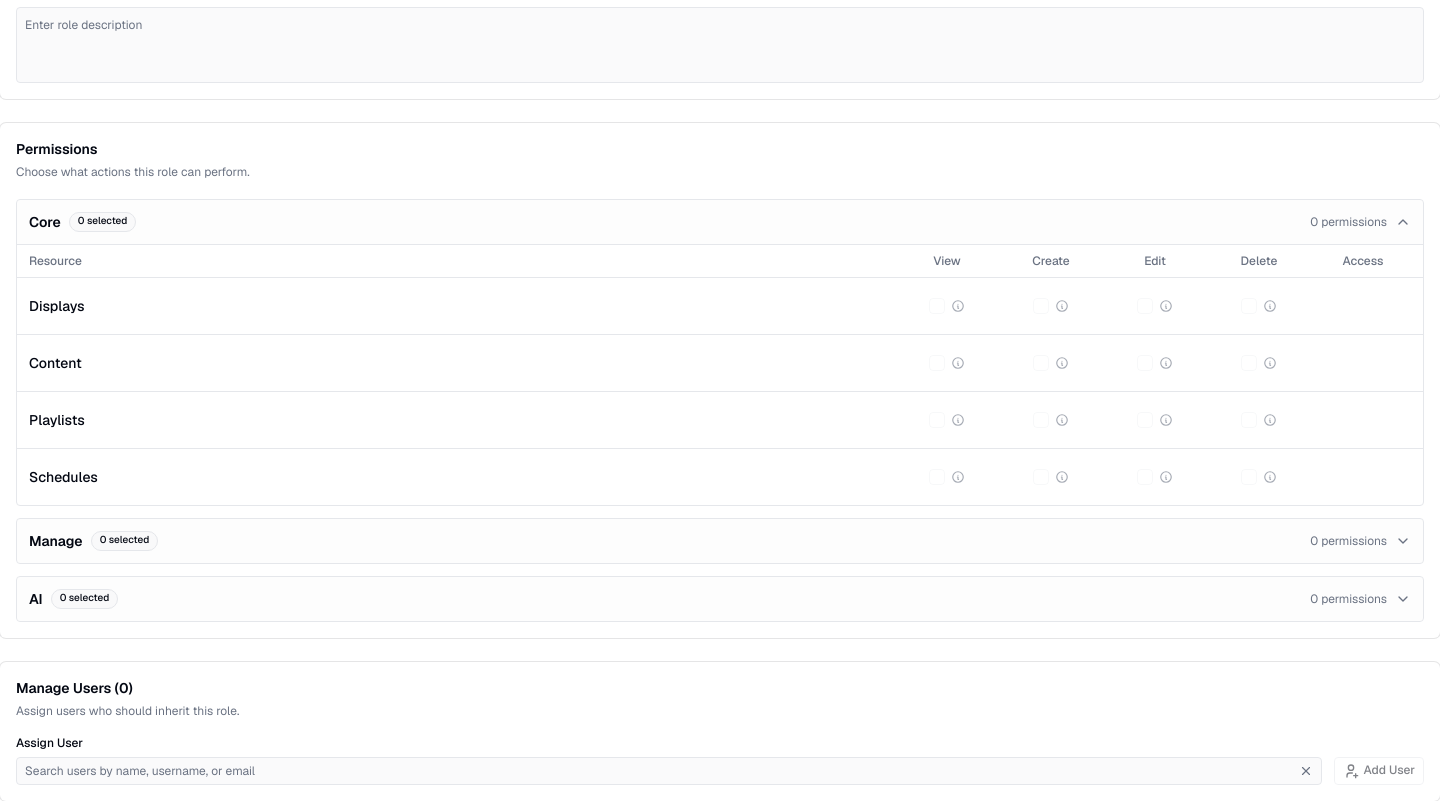
RoleForm › selects and adds a user from the assignment combobox
(page scrolled)
Expected: the button "Add User" is disabled, [1334,757,1424,785]
In the dropdown labelled "Assign User": (655, 771) [17,757,1294,785], type "bob"
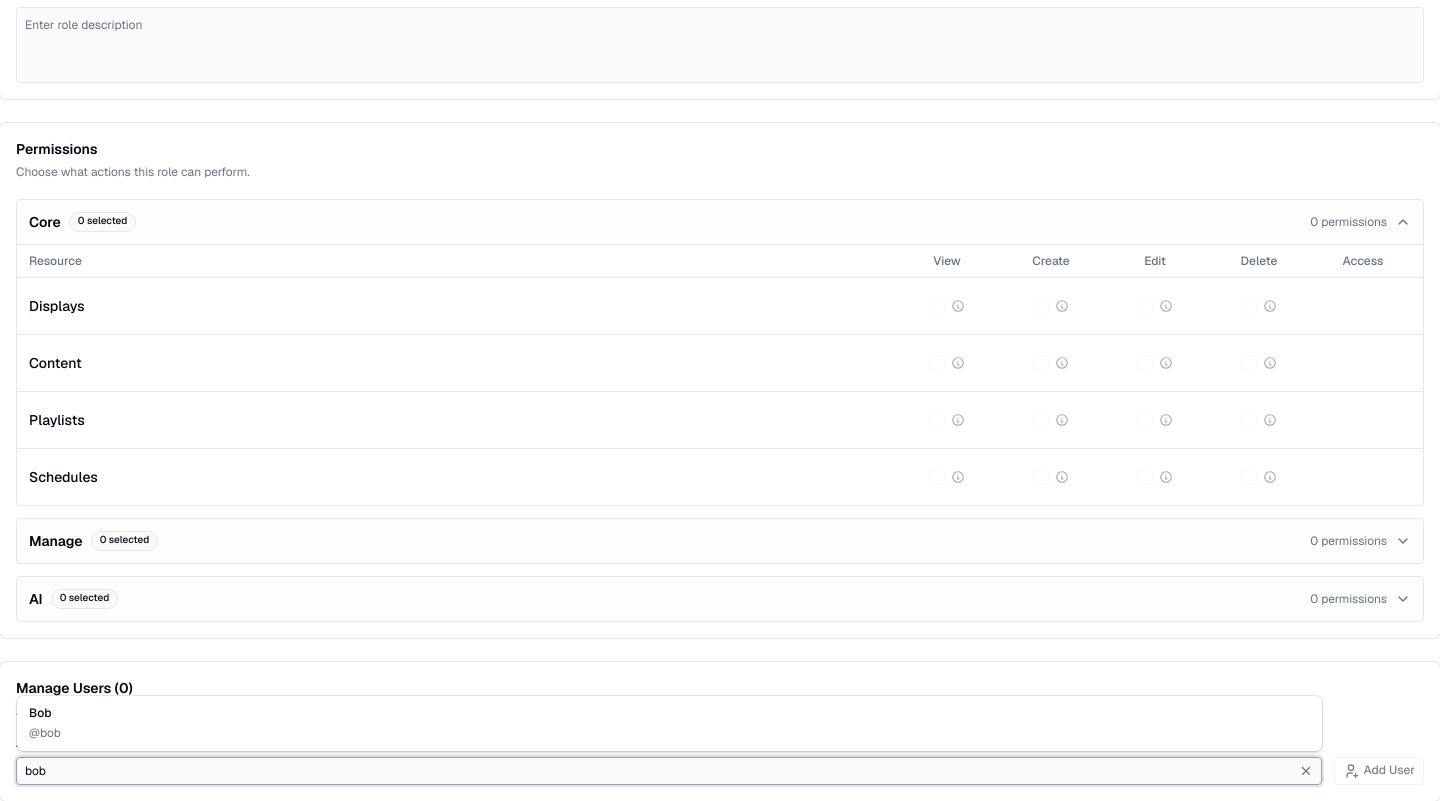
Press the mouse on the option "Bob @bob": (45, 723) [29,705,61,740]
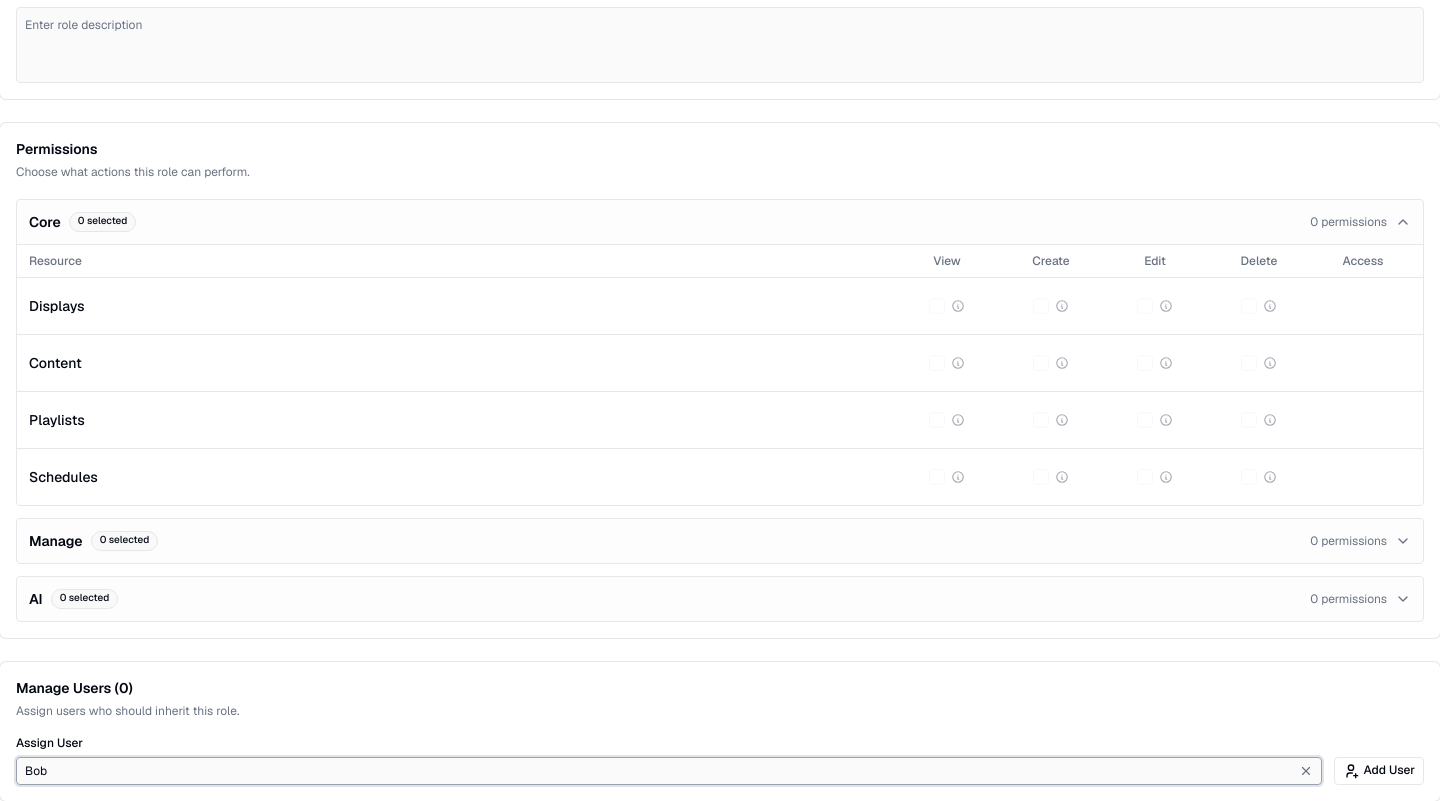
Result: the button "Add User" is enabled
Click the button "Add User": (1379, 771) [1334,757,1424,785]
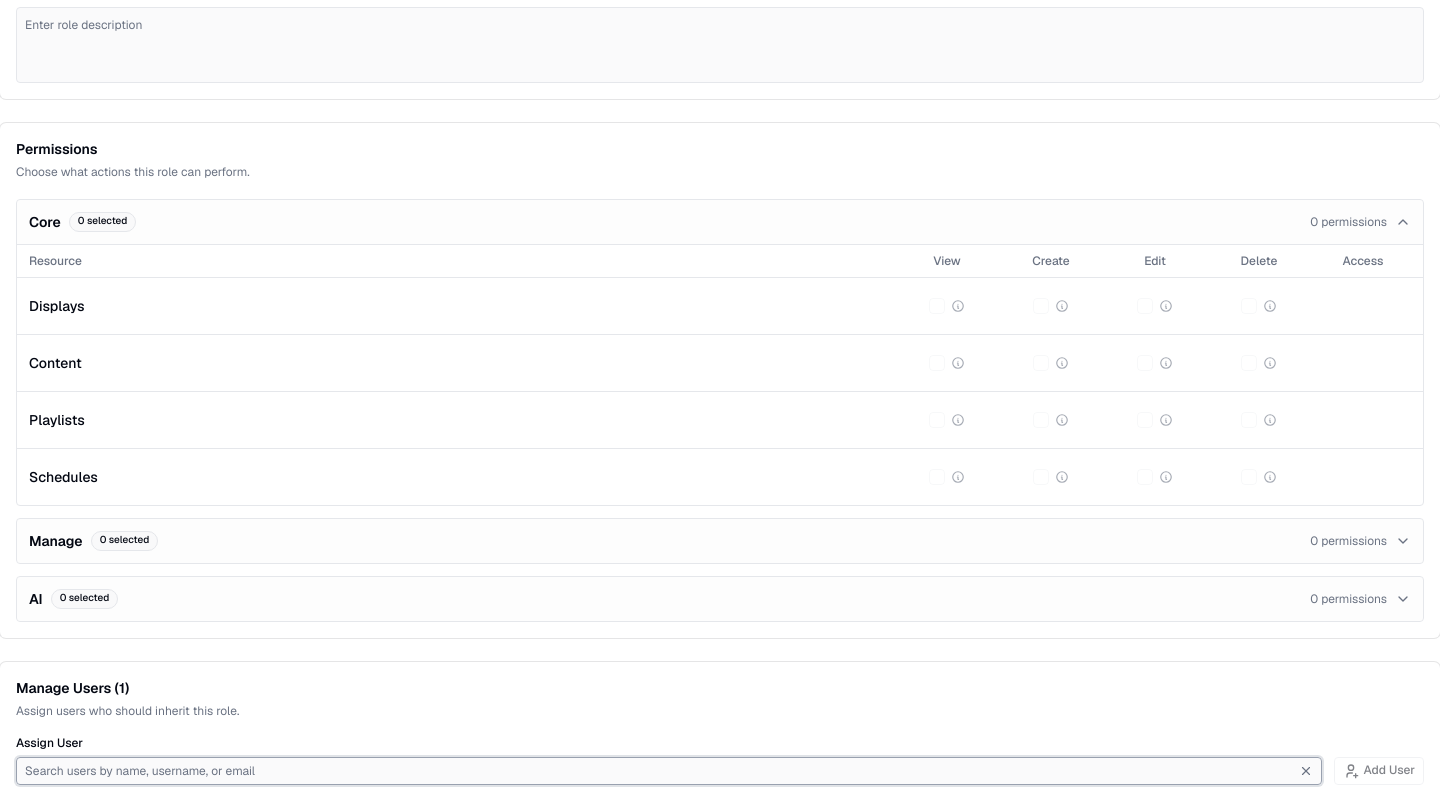
Result: the dropdown labelled "Assign User" is empty at [17,757,1294,785]
Result: the button "Add User" is disabled at [1334,757,1424,785]
